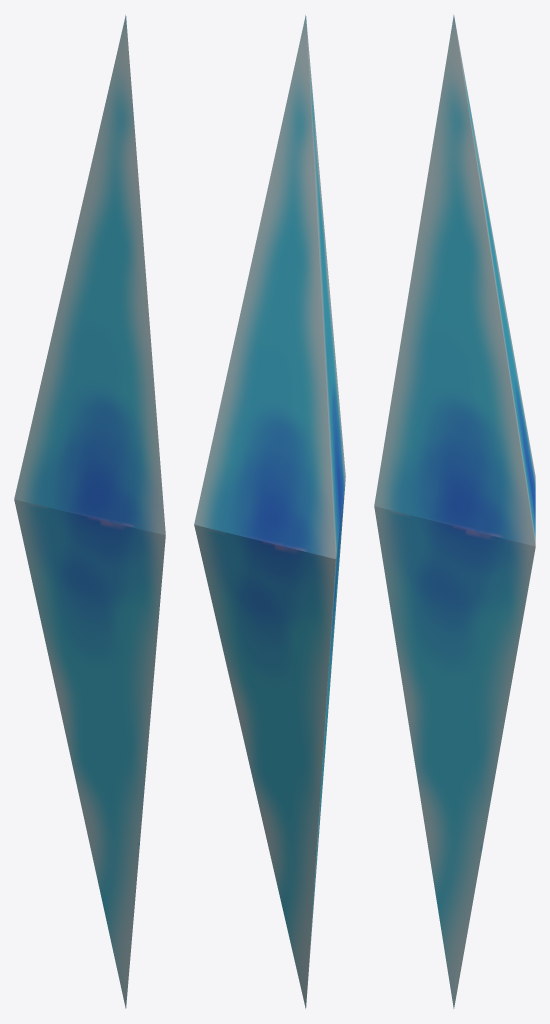
File: IceBerg.fbx
The picture shows the model from 3 angles, left to right: view 1: azimuth 30°, elevation 25°; view 2: azimuth 150°, elevation 25°; view 3: azimuth 270°, elevation 25°; orthographic projection.
Visible parts, largest first — view 1: Cube; view 2: Cube; view 3: Cube.
Boxes of the visible parts, box(x1,y1,x2,y2) form: Cube: box(14, 15, 165, 1008); Cube: box(194, 15, 345, 1008); Cube: box(374, 15, 535, 1008).
Size of the model in its own units: 200 by 1342 by 197.
Materials: 1 (1 with a texture image).
